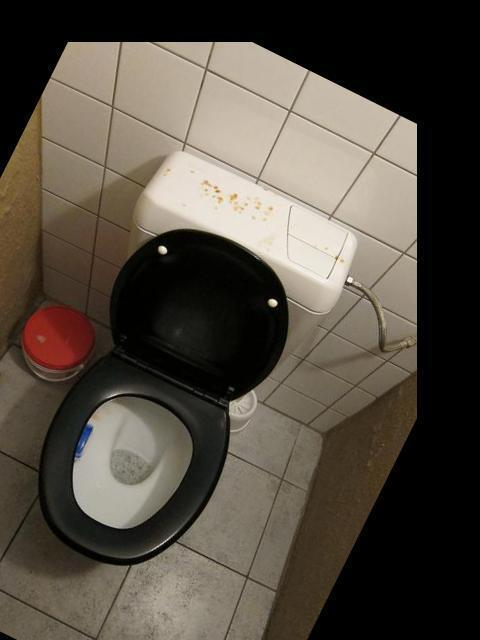Sanitario: (0, 133, 383, 624)
